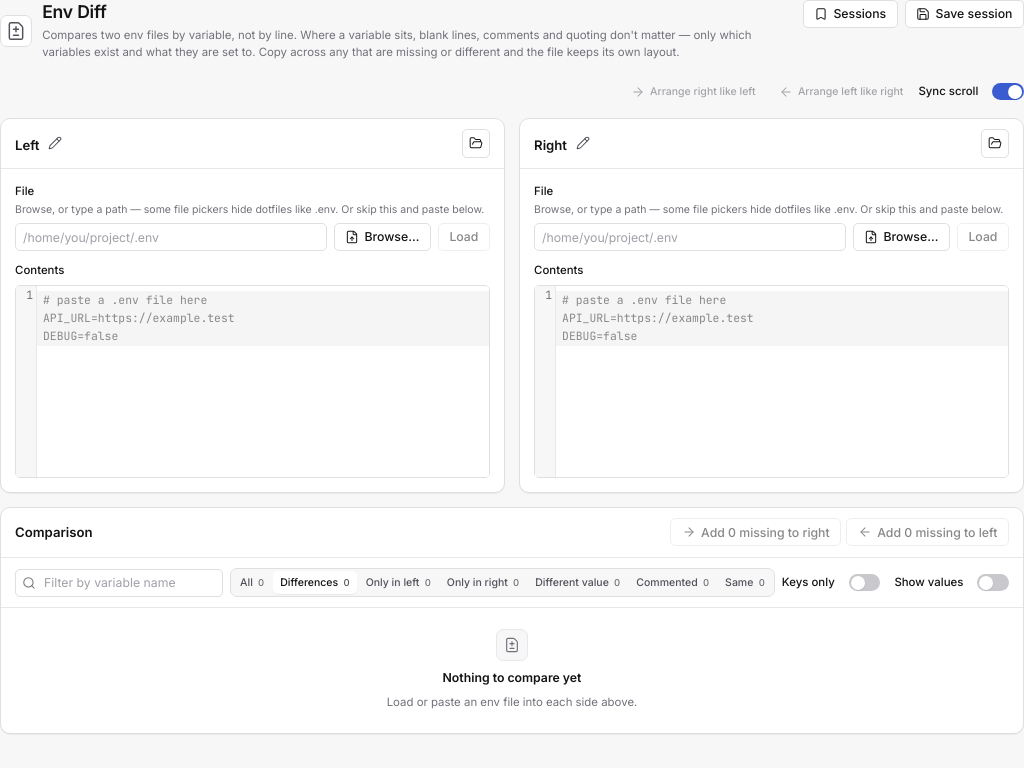
Test case: EnvDiffPage › surfaces a read failure instead of leaving the box silently empty
In the 2nd field labelled "File": (690, 237) 534,223 -> 846,251, type "/nope"
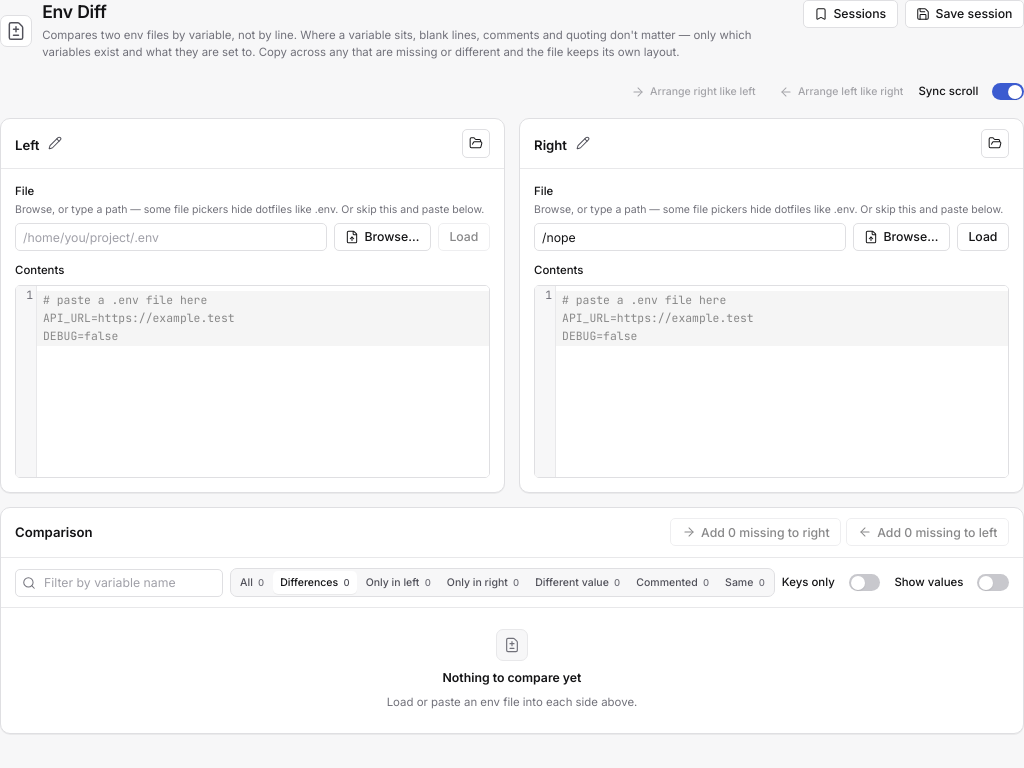
Click the 2nd button "Load": click(983, 237) 957,223 -> 1009,251
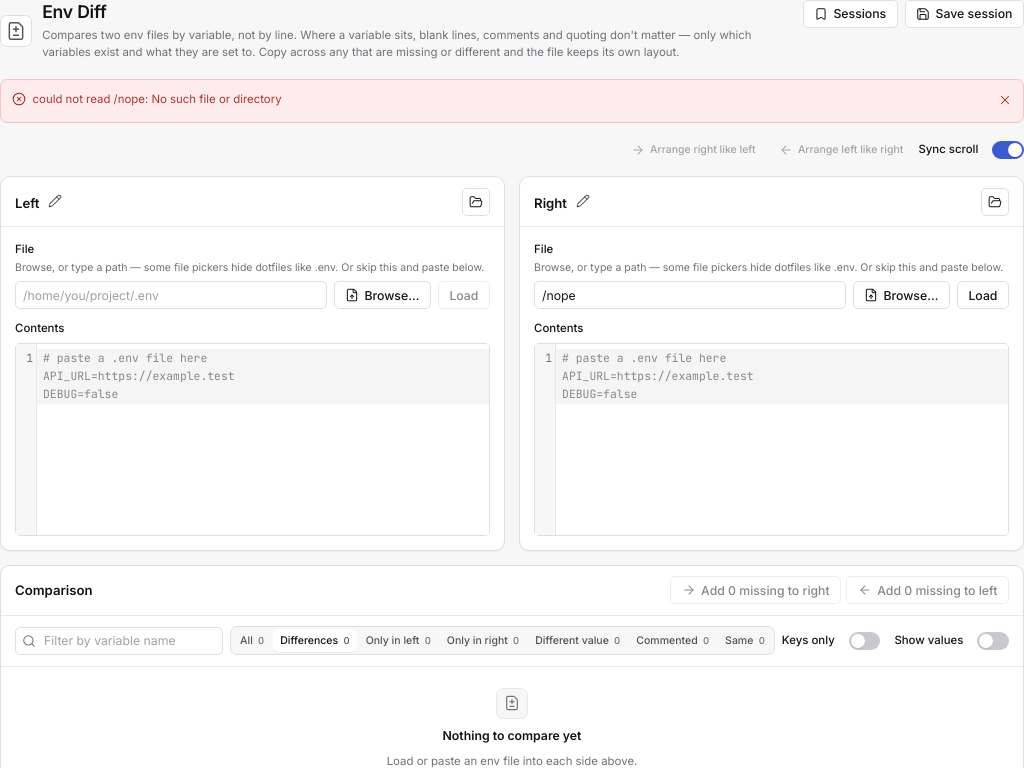
Expected: the text "could not read /nope: No such file or directory" is shown, 32,92 -> 282,106
